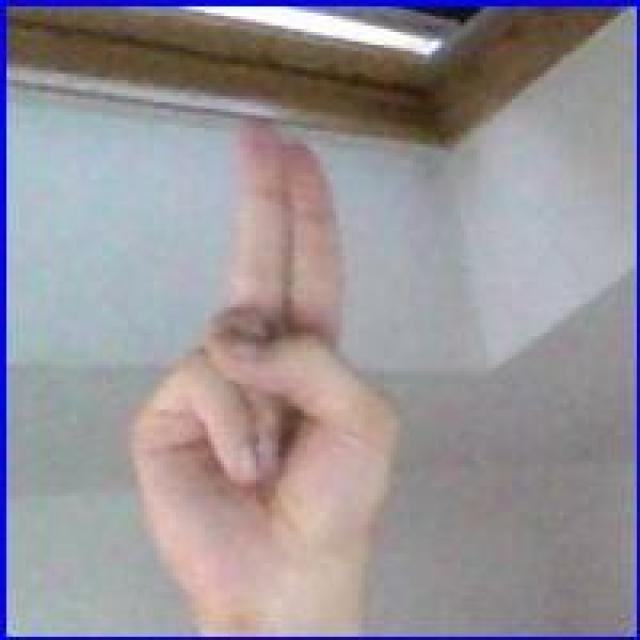U: (123, 106, 408, 598)
